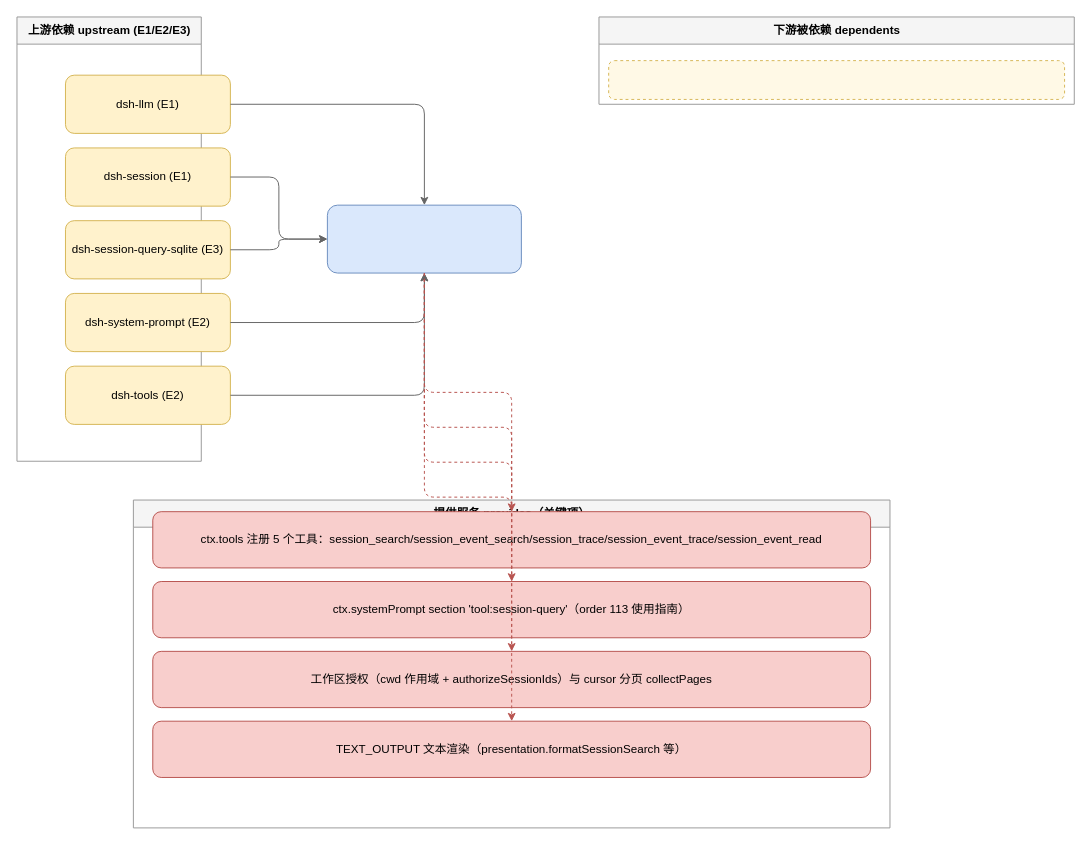
The diagram is 1091 pixels wide and 845 high, and some of its shapes have lost their labels. The centre of each missing label's shape, as x and y in pixels:
"@deepseek-ai/dsh-tool-session-query" goes at point (423, 238).
"… 无下游依赖（L3 扩展点，共 0 个）" goes at point (836, 79).
